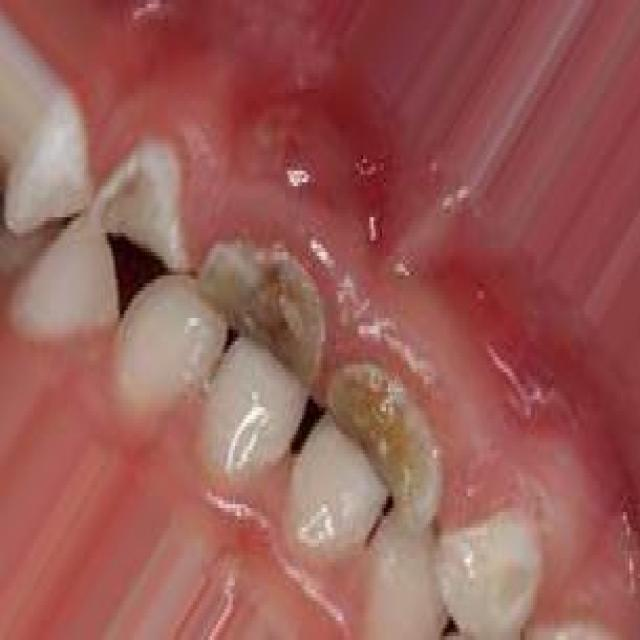caries: (332, 346, 449, 532)
